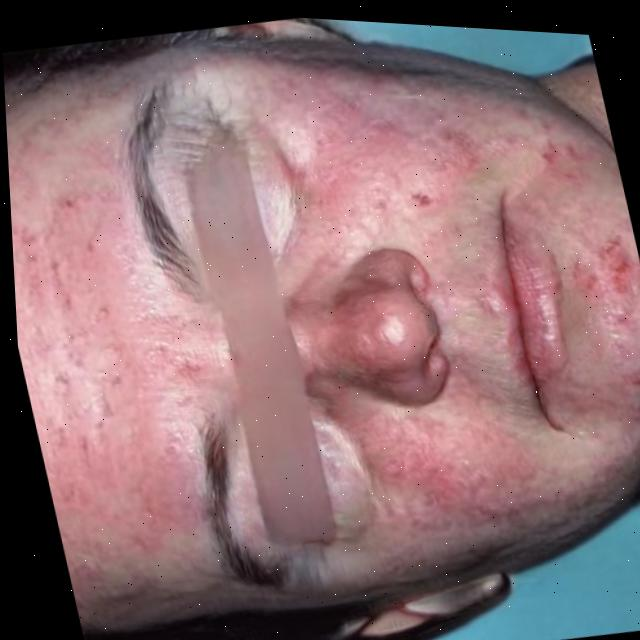Rosacea: (9, 172, 214, 563), (279, 37, 584, 246), (357, 390, 562, 548), (558, 208, 640, 399)
